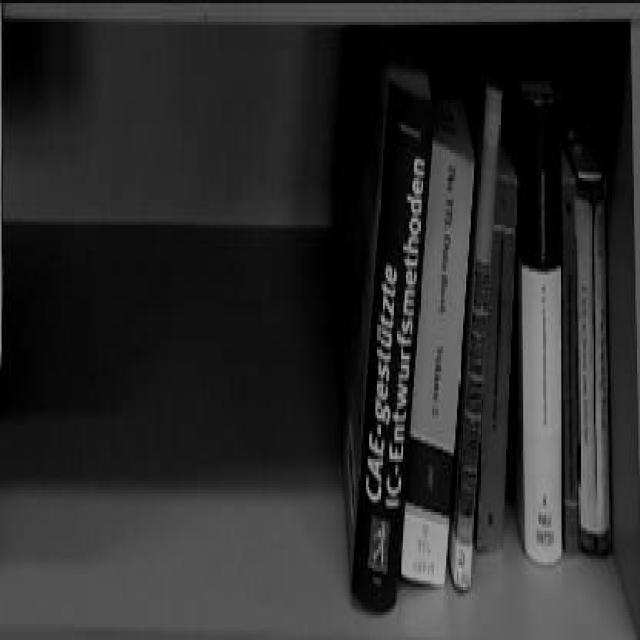book: (404, 135, 475, 592), (524, 158, 563, 560), (576, 171, 615, 557), (487, 163, 517, 551)
